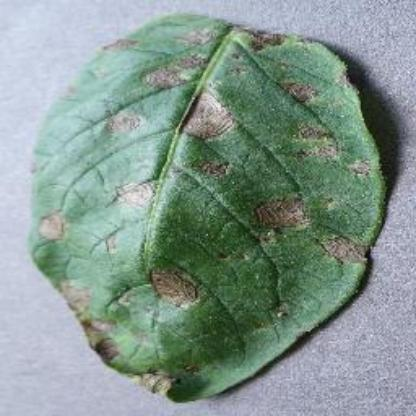Early-Blight: (27, 14, 393, 402)
